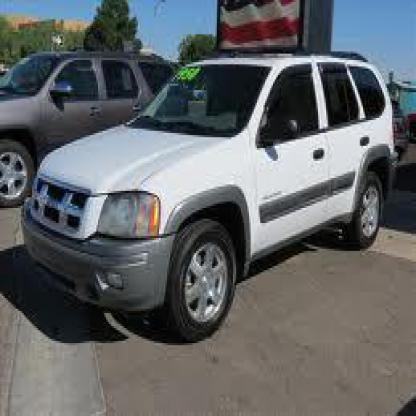Vehicle: (19, 49, 395, 341)
